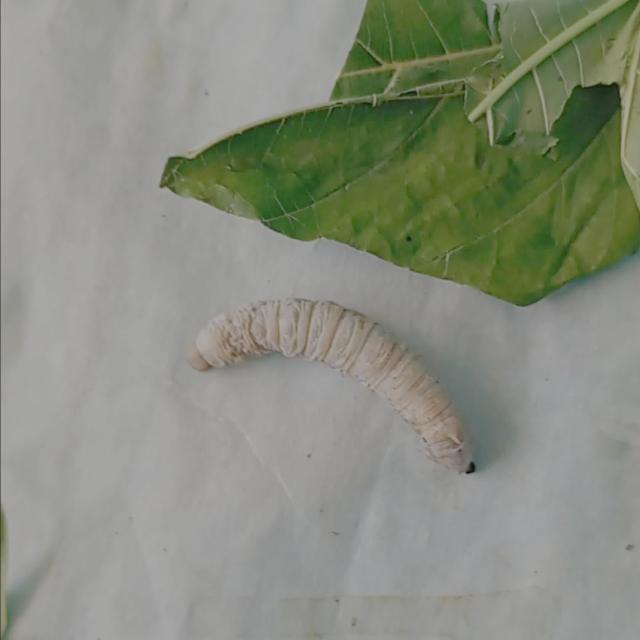Grasserie: (182, 280, 486, 489)
